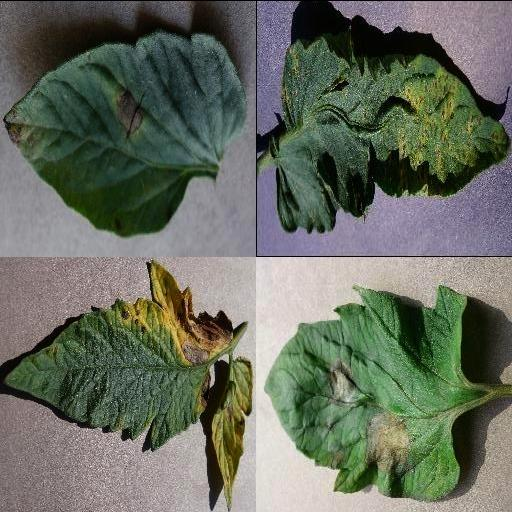Early Blight: (4, 32, 246, 236), (1, 260, 229, 452)
Late Blight: (262, 283, 470, 503)
Septoria: (275, 36, 511, 237)
